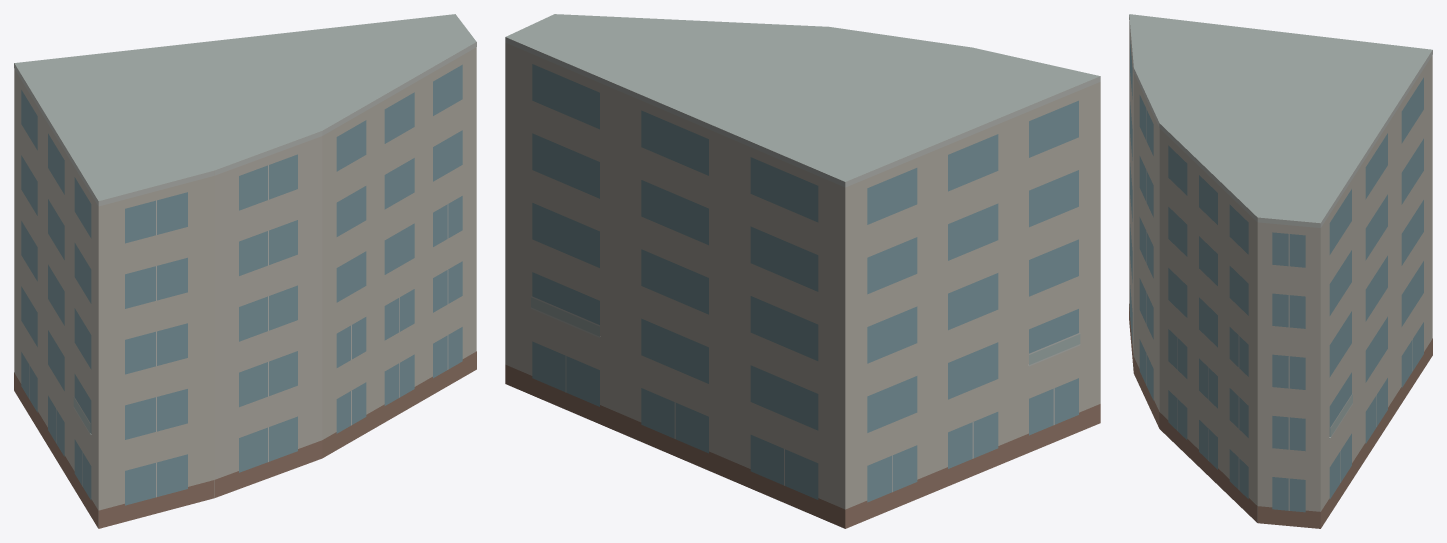
Rendered from survey-upis-32969905.glb.
3 views of the same model, side by side, from view 1: azimuth 30°, elevation 25°; view 2: azimuth 150°, elevation 25°; view 3: azimuth 270°, elevation 25° (orthographic). The views are drawn at different scales.
Visible parts, largest first — view 1: survey-upis-32969905.tmp; view 2: survey-upis-32969905.tmp; view 3: survey-upis-32969905.tmp.
Boxes of the visible parts, x1,y1,x2,y2 form: survey-upis-32969905.tmp: (14,14,476,528); survey-upis-32969905.tmp: (505,14,1100,528); survey-upis-32969905.tmp: (1129,14,1432,528).
Bounding box in the file's own units: 22.4 × 15.25 × 13.74.
